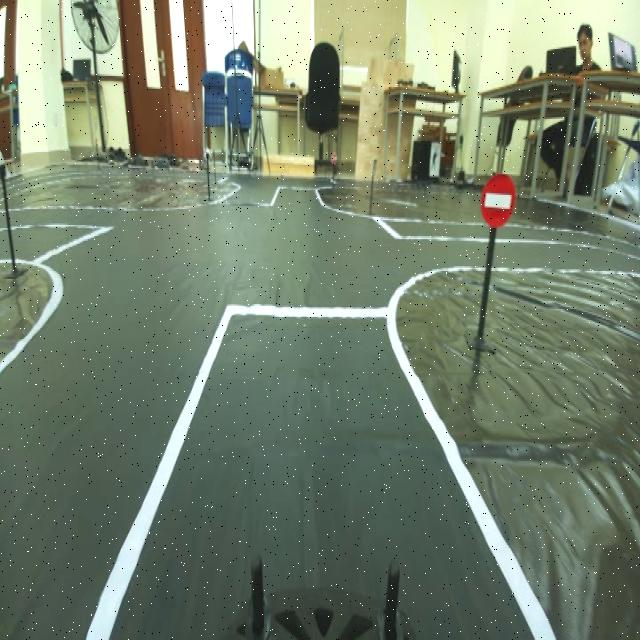no_entry: (478, 163, 518, 239)
